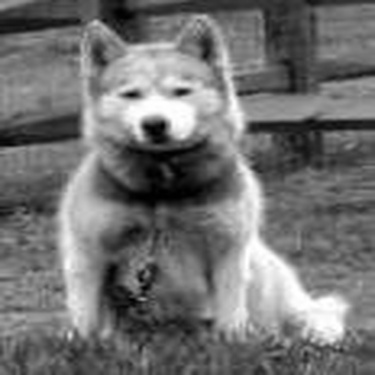dog: (50, 7, 357, 355)
